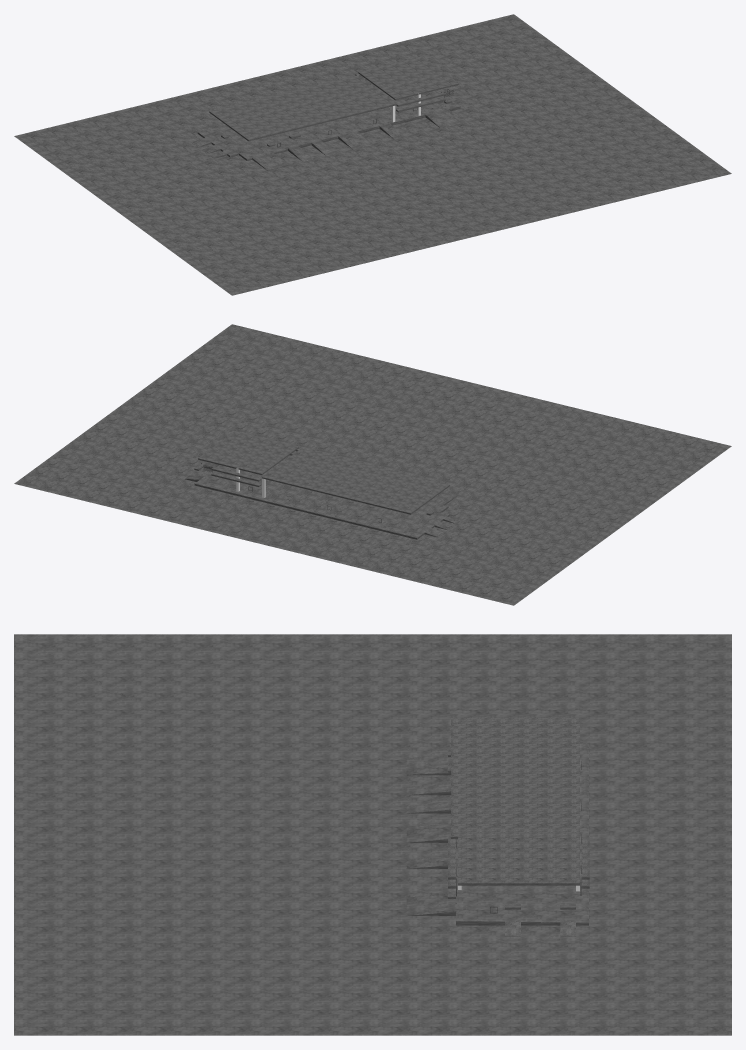
File: NoLod_6.glb
The picture shows the model from 3 angles, top to bottom: view 1: azimuth 30°, elevation 25°; view 2: azimuth 150°, elevation 25°; view 3: azimuth 270°, elevation 25°; orthographic projection. The views are drawn at different scales.
Parts seen in each view (by area): view 1: rtc; view 2: rtc; view 3: rtc.
Boxes of the visible parts, x1,y1,x2,y2 form: rtc: (14,14,731,295); rtc: (14,324,731,605); rtc: (14,634,731,1035).
Bounding box in the file's own units: 120 × 5.83 × 91.04.
4 materials, 1 textured.
